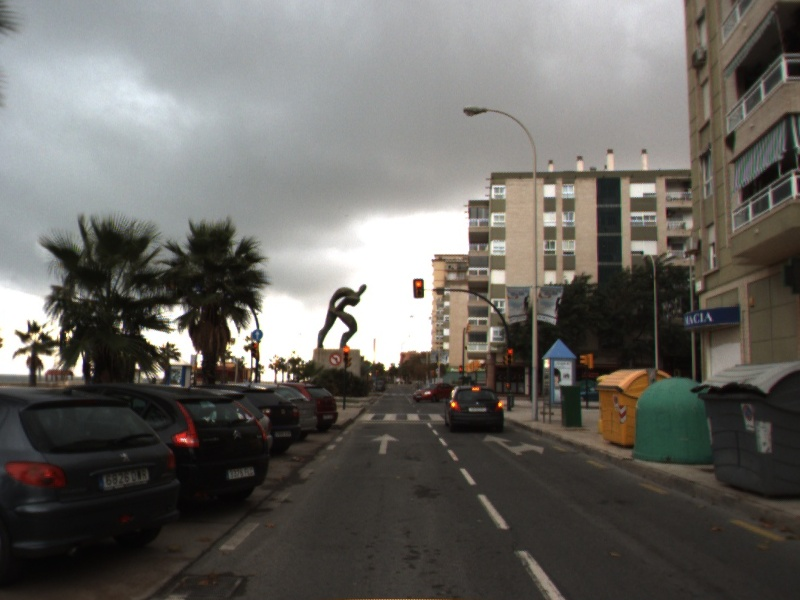STRAIGHT: (369, 431, 401, 455)
STRAIGHT_RIGHT: (481, 432, 546, 457)
